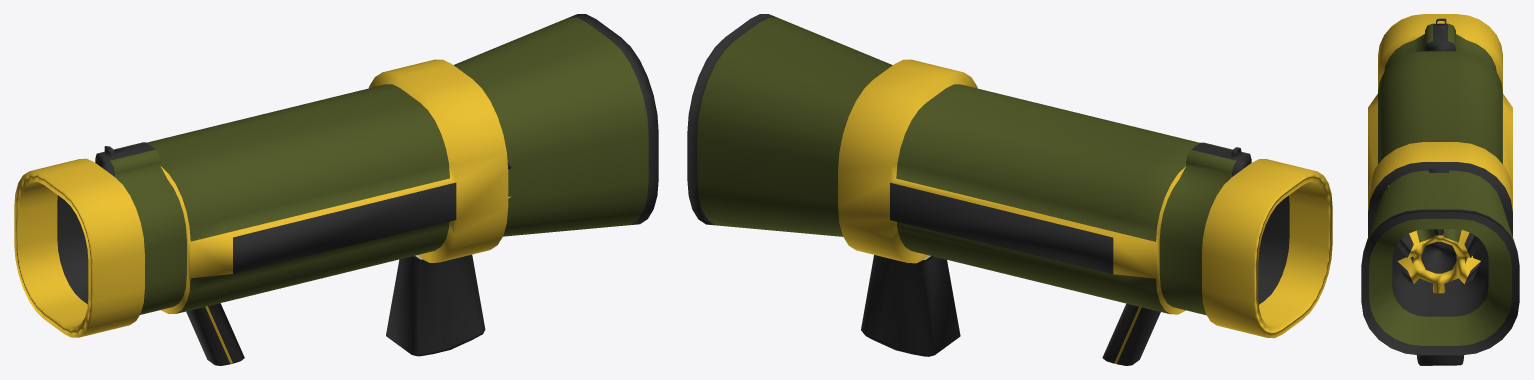
File: RocketLauncher.glb
The picture shows the model from 3 angles, left to right: view 1: azimuth 30°, elevation 25°; view 2: azimuth 150°, elevation 25°; view 3: azimuth 270°, elevation 25°; orthographic projection. The views are drawn at different scales.
Visible parts, largest first — view 1: Rocket Launcher; view 2: Rocket Launcher; view 3: Rocket Launcher.
Boxes of the visible parts, left/top/right/bottom form: Rocket Launcher: left=14, top=14, right=658, bottom=365; Rocket Launcher: left=687, top=14, right=1332, bottom=365; Rocket Launcher: left=1361, top=14, right=1519, bottom=365.
Bounding box in the file's own units: 8.04 × 3.77 × 2.53.
